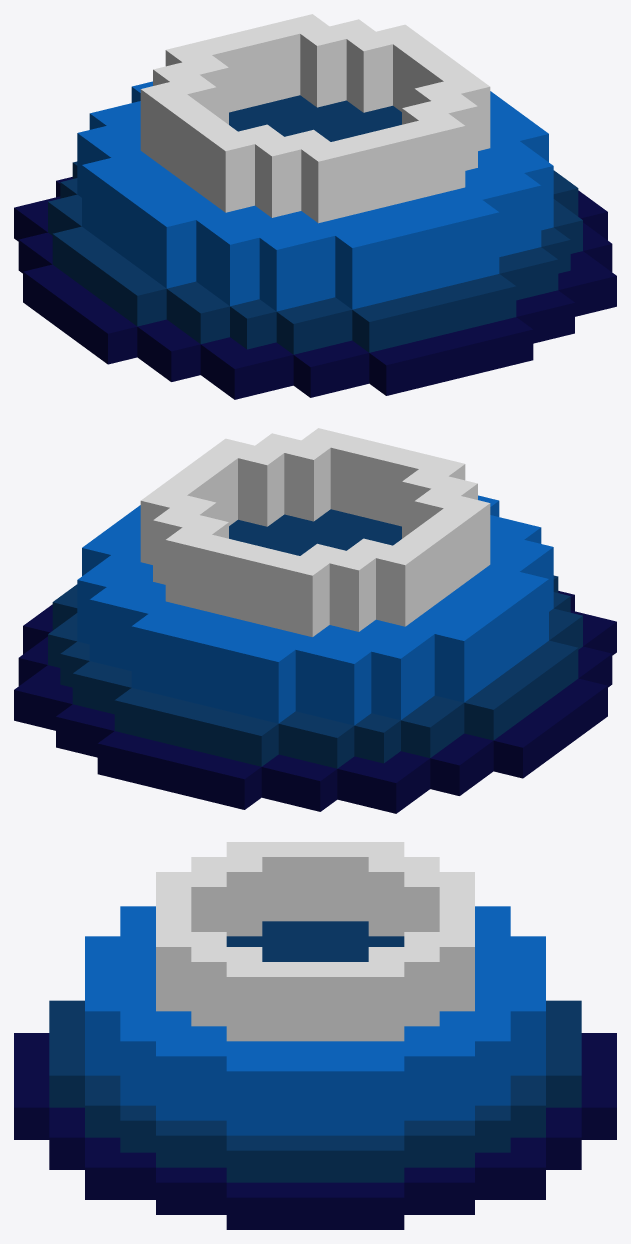
File: portal.obj
3 renders of one model, top to bottom at view 1: azimuth 30°, elevation 25°; view 2: azimuth 150°, elevation 25°; view 3: azimuth 270°, elevation 25°, orthographic. The views are drawn at different scales.
Parts seen in each view (by area): view 1: portal; view 2: portal; view 3: portal.
Part boxes in pixels (<box>): portal: <box>14,14,616,399</box>; portal: <box>14,428,616,813</box>; portal: <box>14,842,616,1229</box>.
Size of the model in its own units: 17 by 6 by 17.
